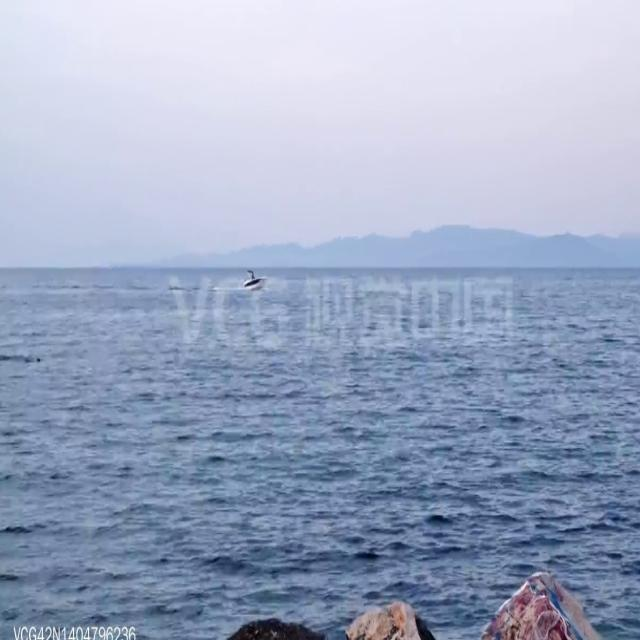houseboat: (238, 264, 268, 290)
